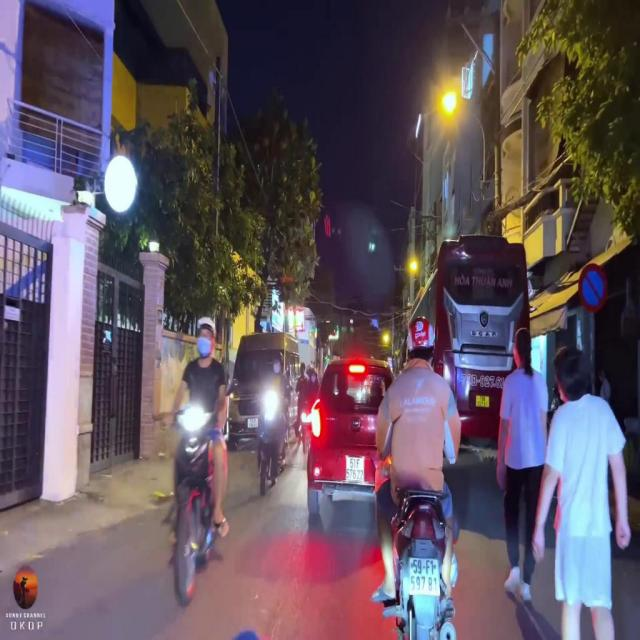cam_do_xe: (578, 262, 608, 314)
